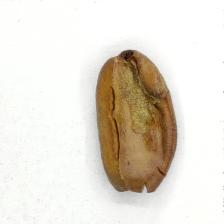NG: (102, 53, 167, 192)
